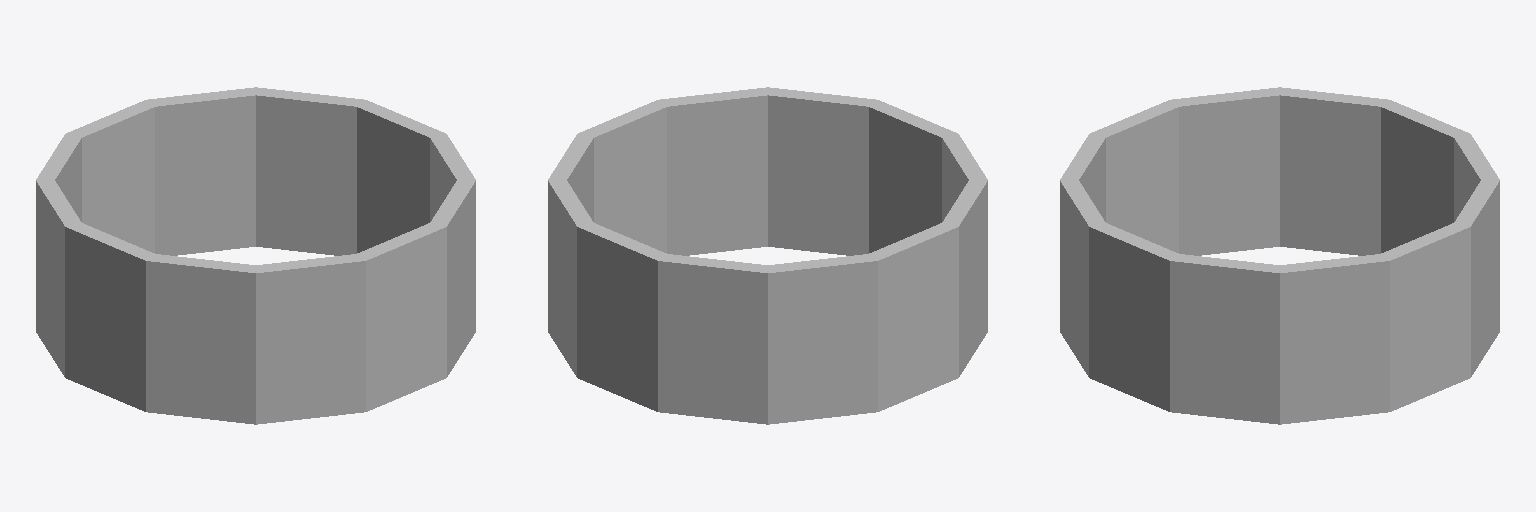
The model's file is training-field.obj.
The picture shows the model from 3 angles: view 1: azimuth 30°, elevation 25°; view 2: azimuth 150°, elevation 25°; view 3: azimuth 270°, elevation 25°; orthographic projection.
Bounding box in the file's own units: 1.91 × 0.7227 × 1.91.